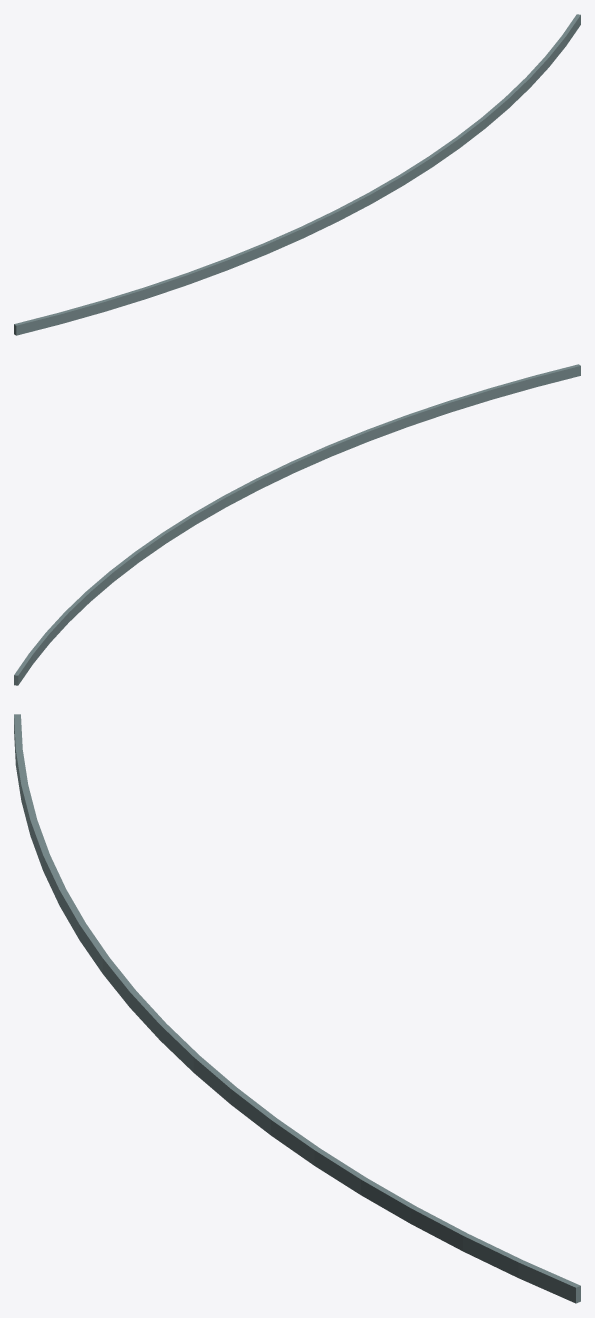
Rendered from RoadPlan_WalkCurve_2L_A45_R36_Curb_1.glb.
The picture shows the model from 3 angles, top to bottom: view 1: azimuth 30°, elevation 25°; view 2: azimuth 210°, elevation 25°; view 3: azimuth 270°, elevation 25°; orthographic projection. The views are drawn at different scales.
Visible parts, largest first — view 1: RoadPlan_WalkCurve_2L_A45_R36_Curb_1; view 2: RoadPlan_WalkCurve_2L_A45_R36_Curb_1; view 3: RoadPlan_WalkCurve_2L_A45_R36_Curb_1.
Part boxes in pixels (left/top/right/bottom): RoadPlan_WalkCurve_2L_A45_R36_Curb_1: left=14, top=14, right=580, bottom=335; RoadPlan_WalkCurve_2L_A45_R36_Curb_1: left=14, top=364, right=580, bottom=685; RoadPlan_WalkCurve_2L_A45_R36_Curb_1: left=14, top=714, right=580, bottom=1303.
Bounding box in the file's own units: 23.33 × 0.3 × 9.75.
